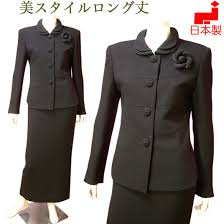F_tailored skirt: (14, 95, 82, 210)
